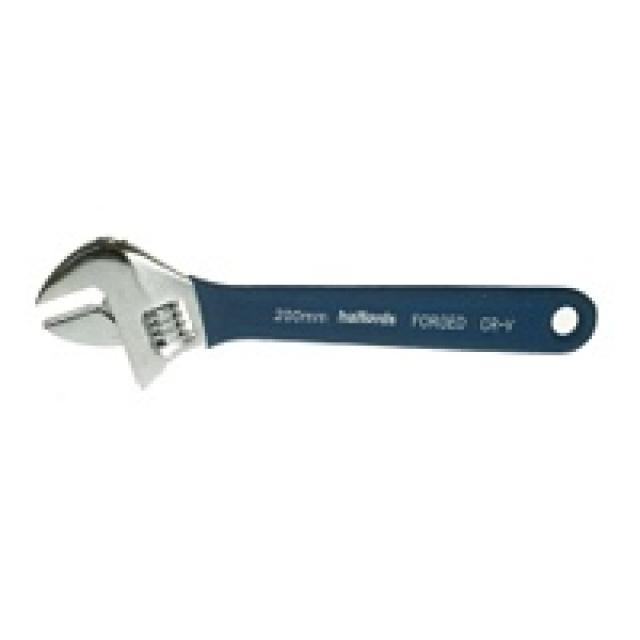wrench: (26, 225, 602, 384)
